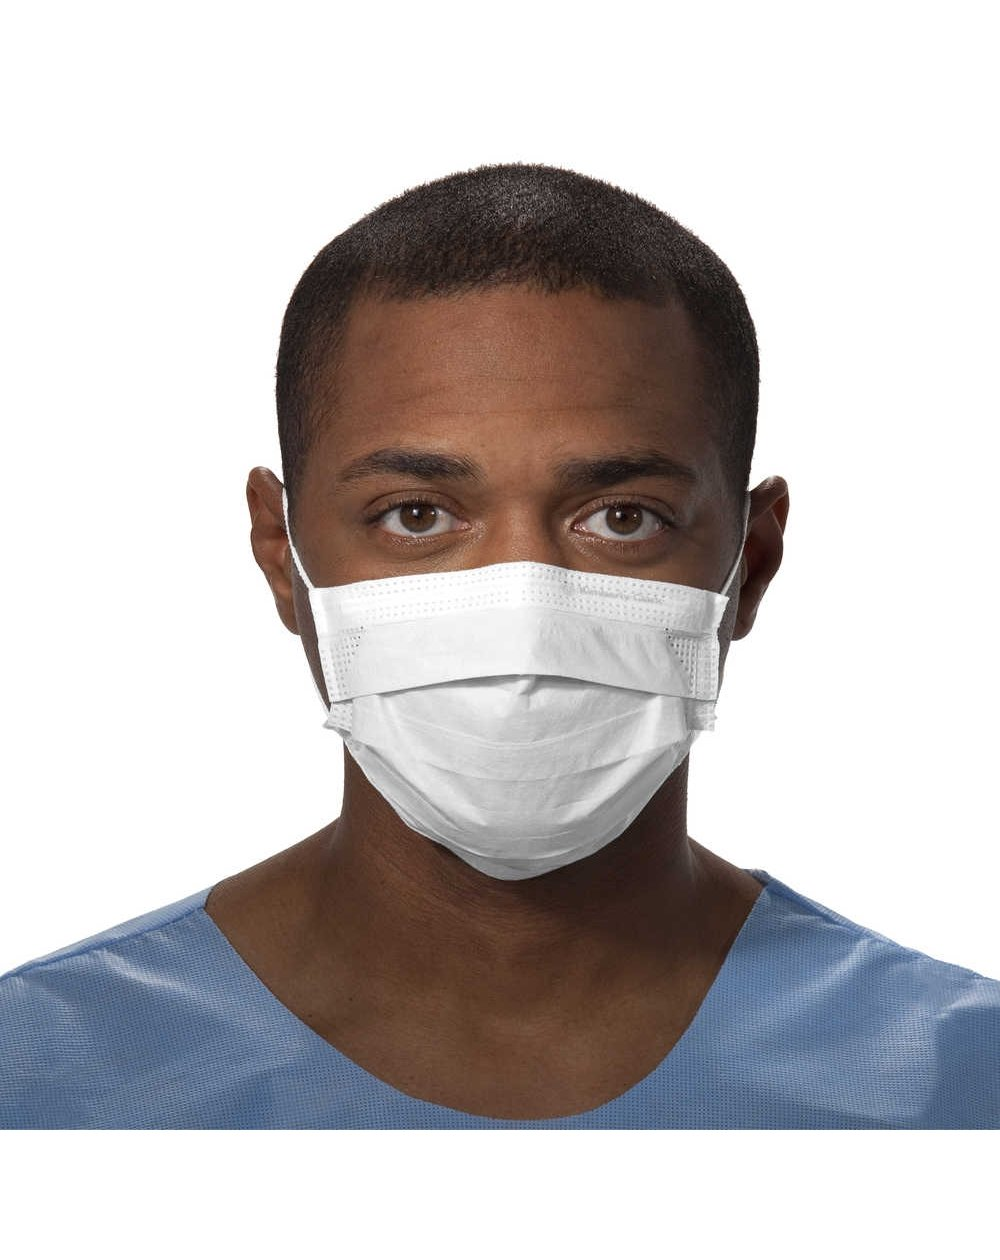surgical: (282, 563, 735, 897)
